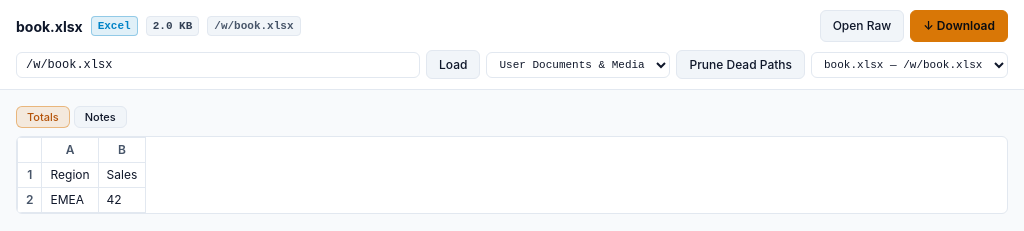
Test: Office document renderer › renders an .xlsx as a tabbed grid with row and column headers
The image size is (1024, 231).
Expected: the text with test id "artifact-kind-badge" reads "Excel", [98, 20, 131, 32]
Expected: the tab with test id "artifact-xlsx-tab-0" reads "Totals", [16, 106, 70, 128]
Click the tab with test id "artifact-xlsx-tab-1" at (100, 117), box [74, 106, 127, 128]
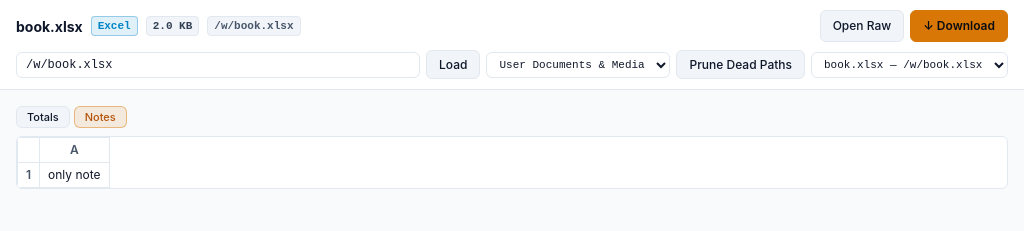
Expected: the table with test id "artifact-xlsx-grid" shows "only note", [48, 167, 101, 182]
Expected: the table with test id "artifact-xlsx-grid" no longer shows "EMEA", [17, 137, 110, 188]
